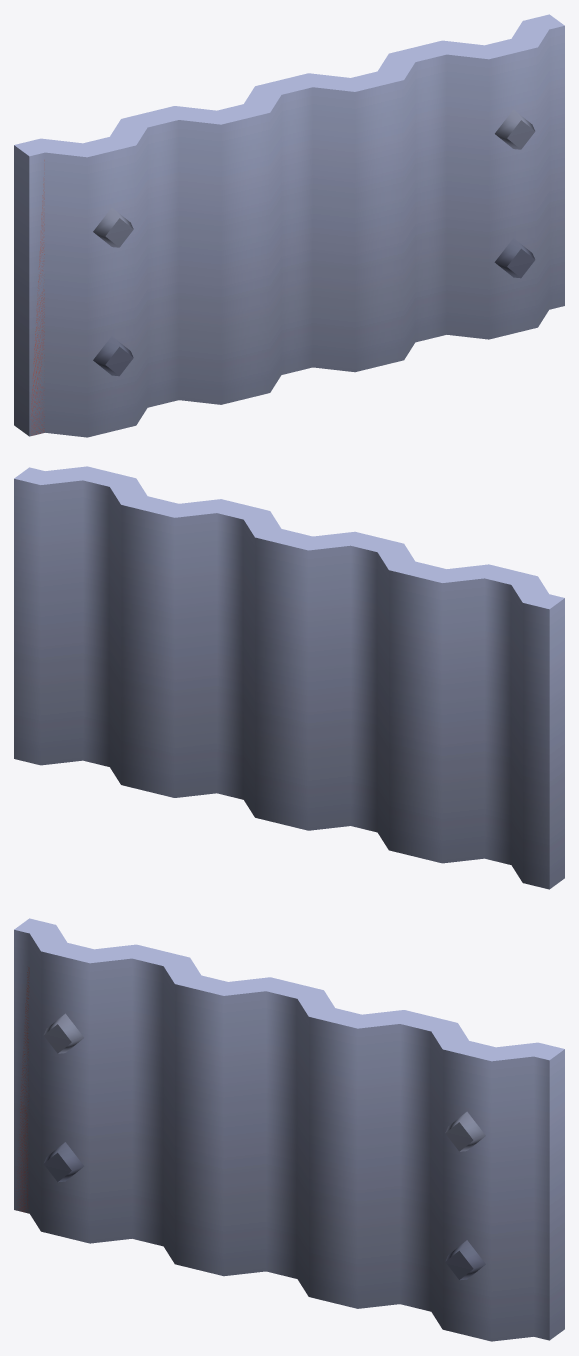
Rendered from kenney-survival-metal-panel-screws-half.glb.
3 views of the same model, one above another, from view 1: azimuth 30°, elevation 25°; view 2: azimuth 150°, elevation 25°; view 3: azimuth 330°, elevation 25° (orthographic).
Parts seen in each view (by area): view 1: metal-panel-screws-half; view 2: metal-panel-screws-half; view 3: metal-panel-screws-half.
Boxes of the visible parts, <box> form: metal-panel-screws-half: <box>14,14,564,437</box>; metal-panel-screws-half: <box>14,466,564,889</box>; metal-panel-screws-half: <box>14,918,564,1341</box>.
Size of the model in its own units: 0.5 by 0.25 by 0.0625.
Materials: 1 (1 with a texture image).
